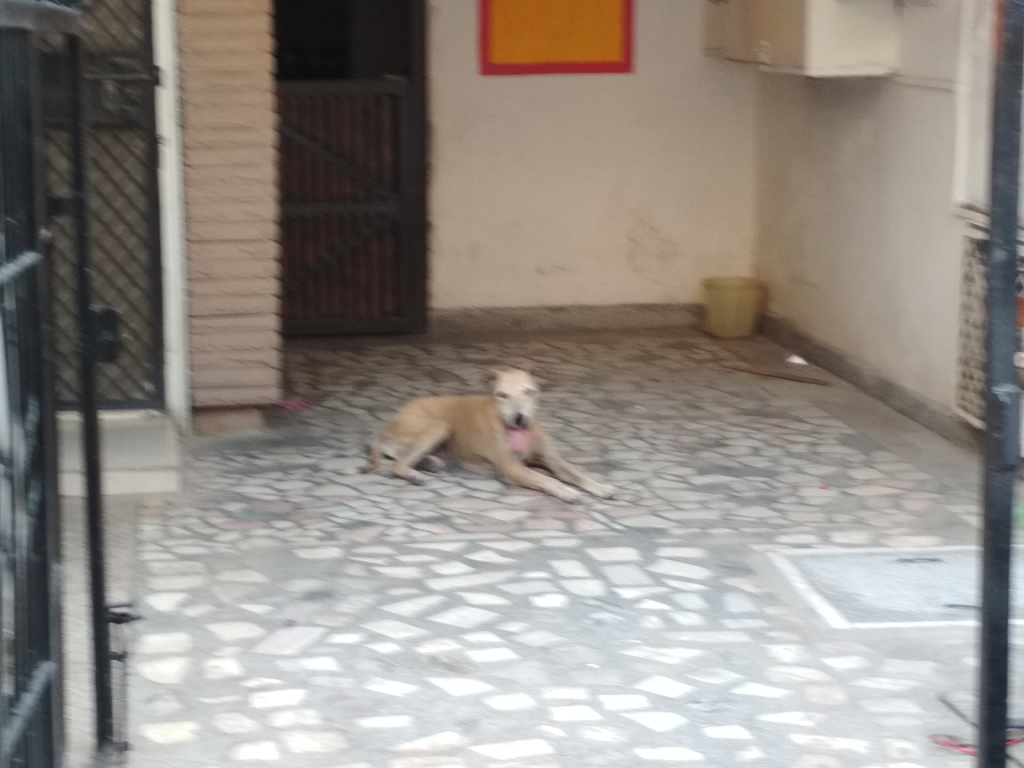dog: (357, 369, 614, 506)
